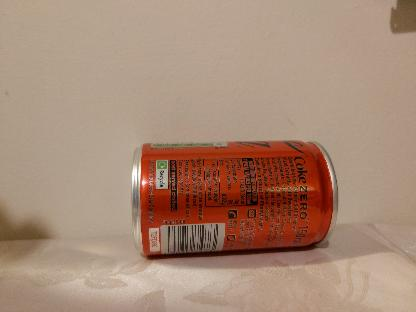Can: (130, 140, 338, 256)
